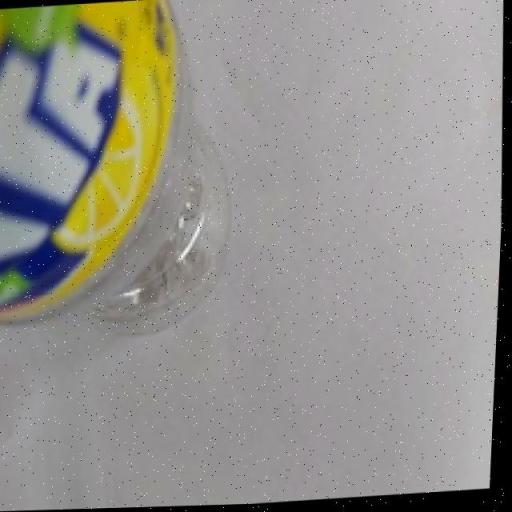plastic: (0, 0, 260, 354)
